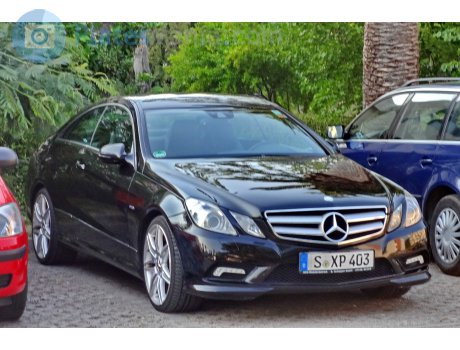License Plates: (304, 252, 377, 273)
